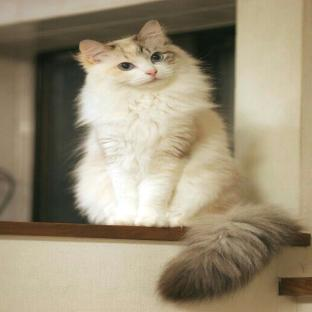Animal: (74, 20, 302, 302)
